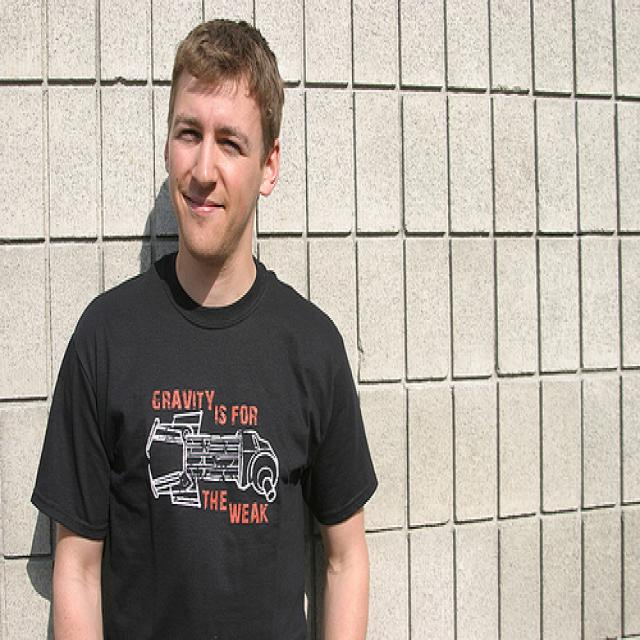T-shirt: (32, 247, 380, 640)
